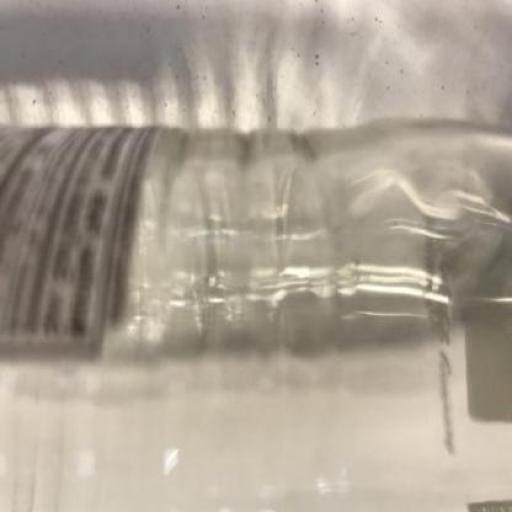glass: (0, 127, 511, 512)
plastic: (0, 129, 511, 512)
